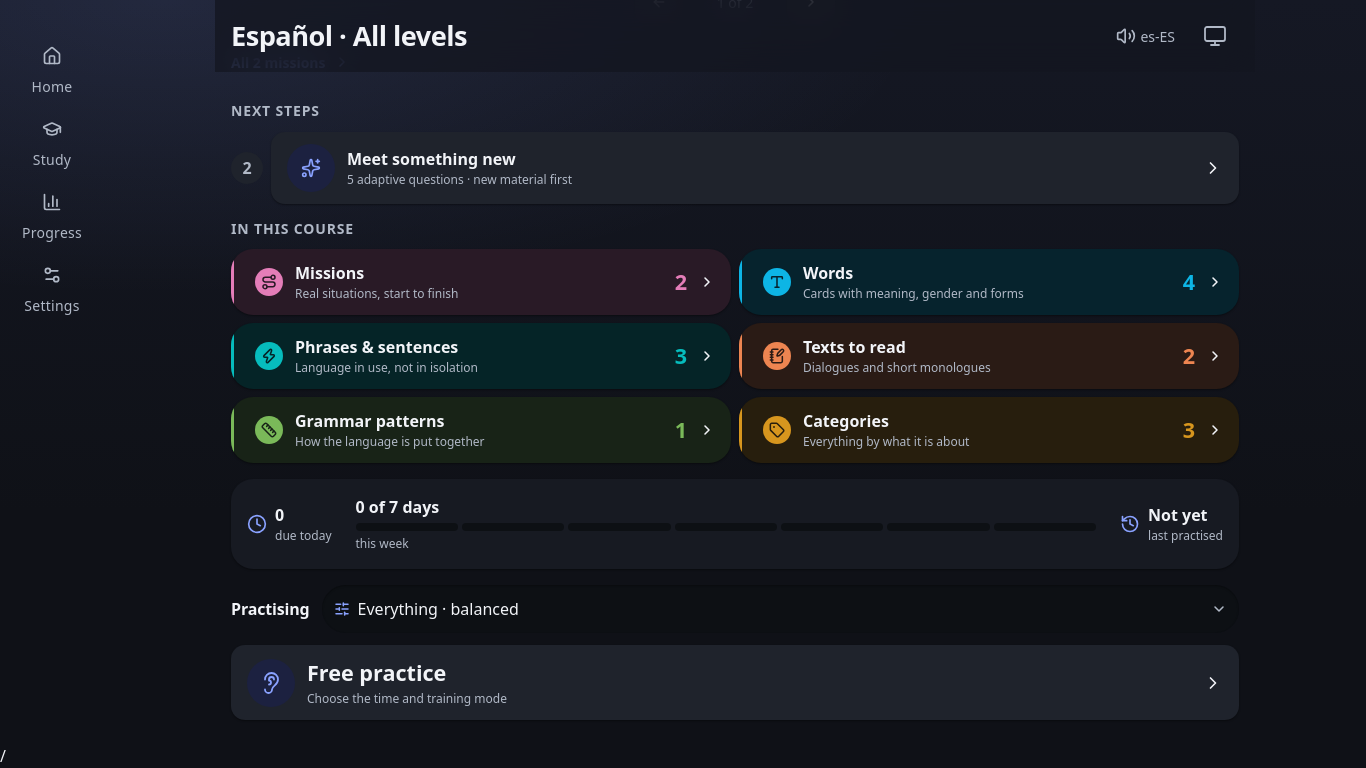
Test case: where the panel opens › closes without leaving the dialog in the accessibility tree
(page scrolled)
Expected: the heading "Español · All levels" is shown, [231,17,467,54]
Click the button named "Change what to practise" at (427, 621), box [322,585,1239,633]
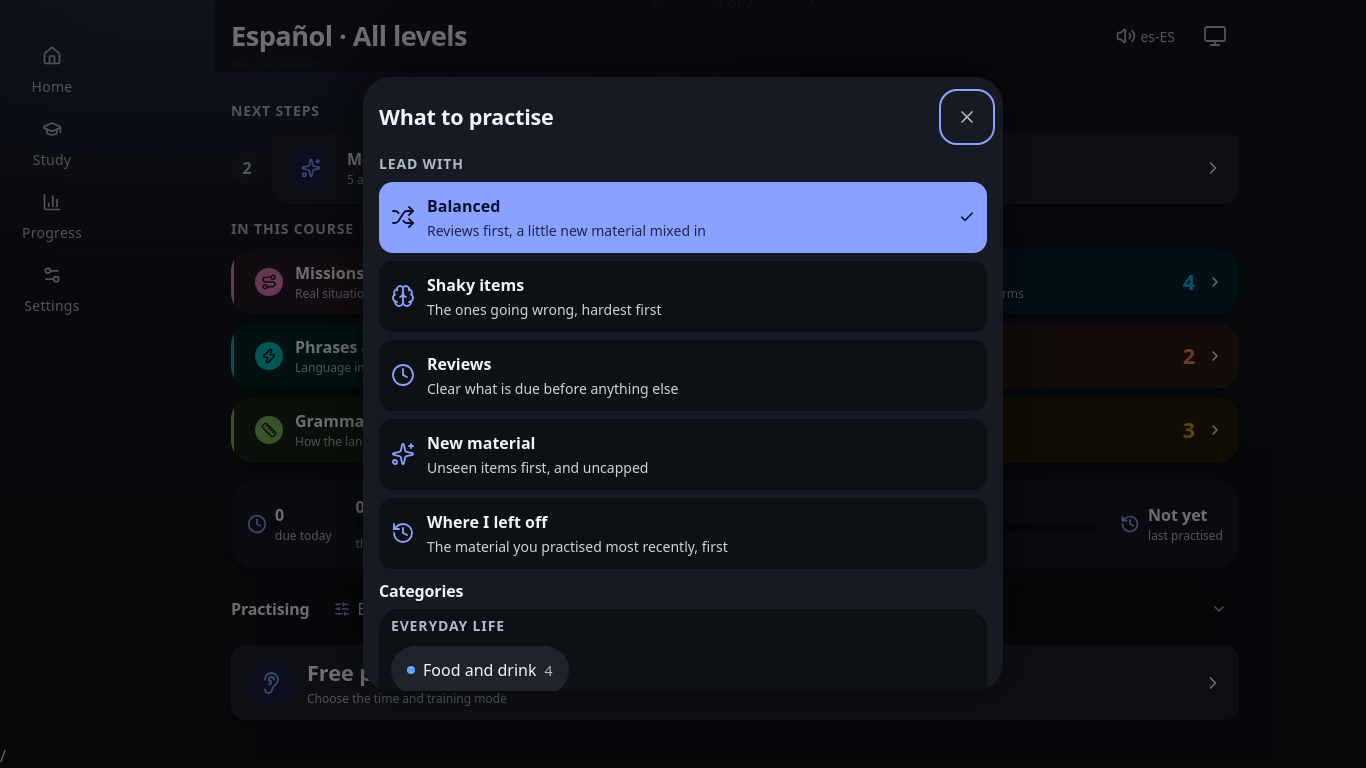
Click the button named "Close" at (967, 117), box [943,93,991,141]
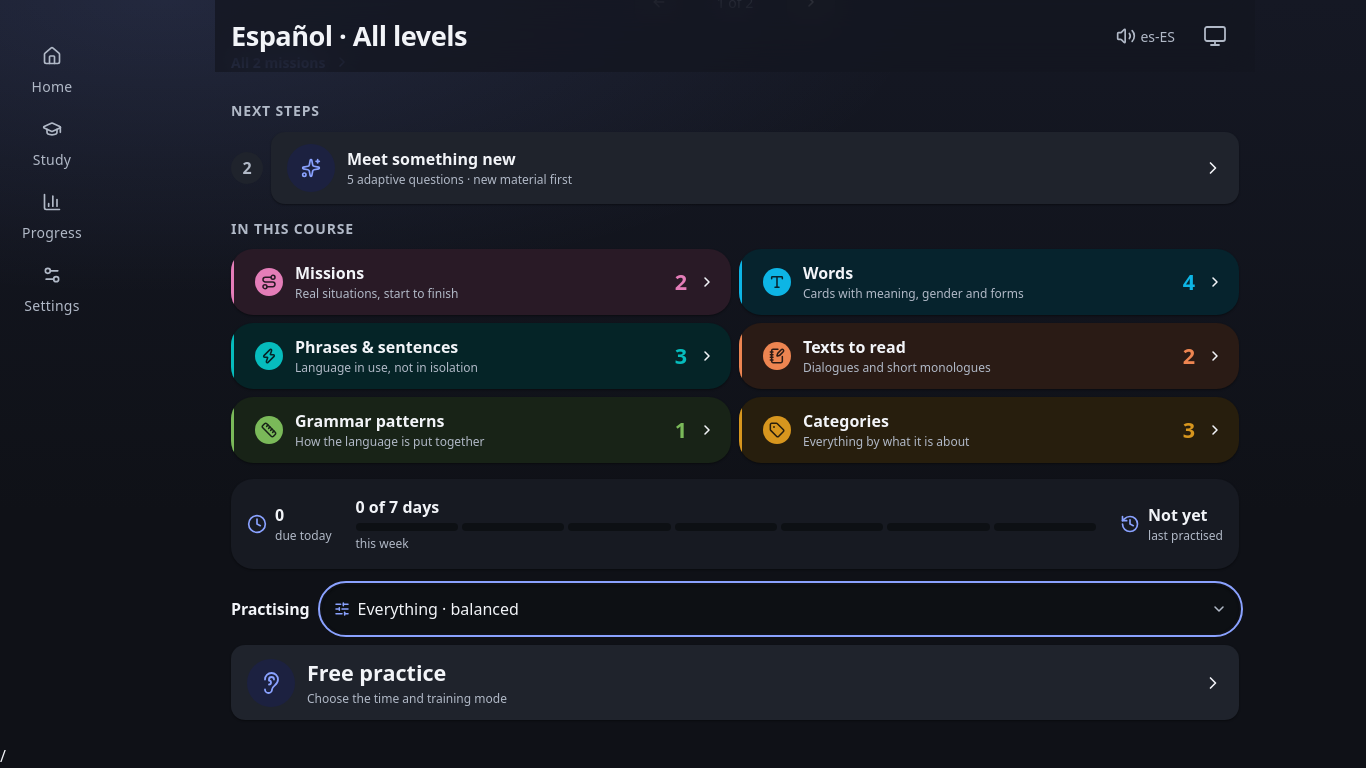
Expected: the dialog is gone
